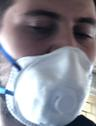with_mask: (1, 2, 96, 126)
